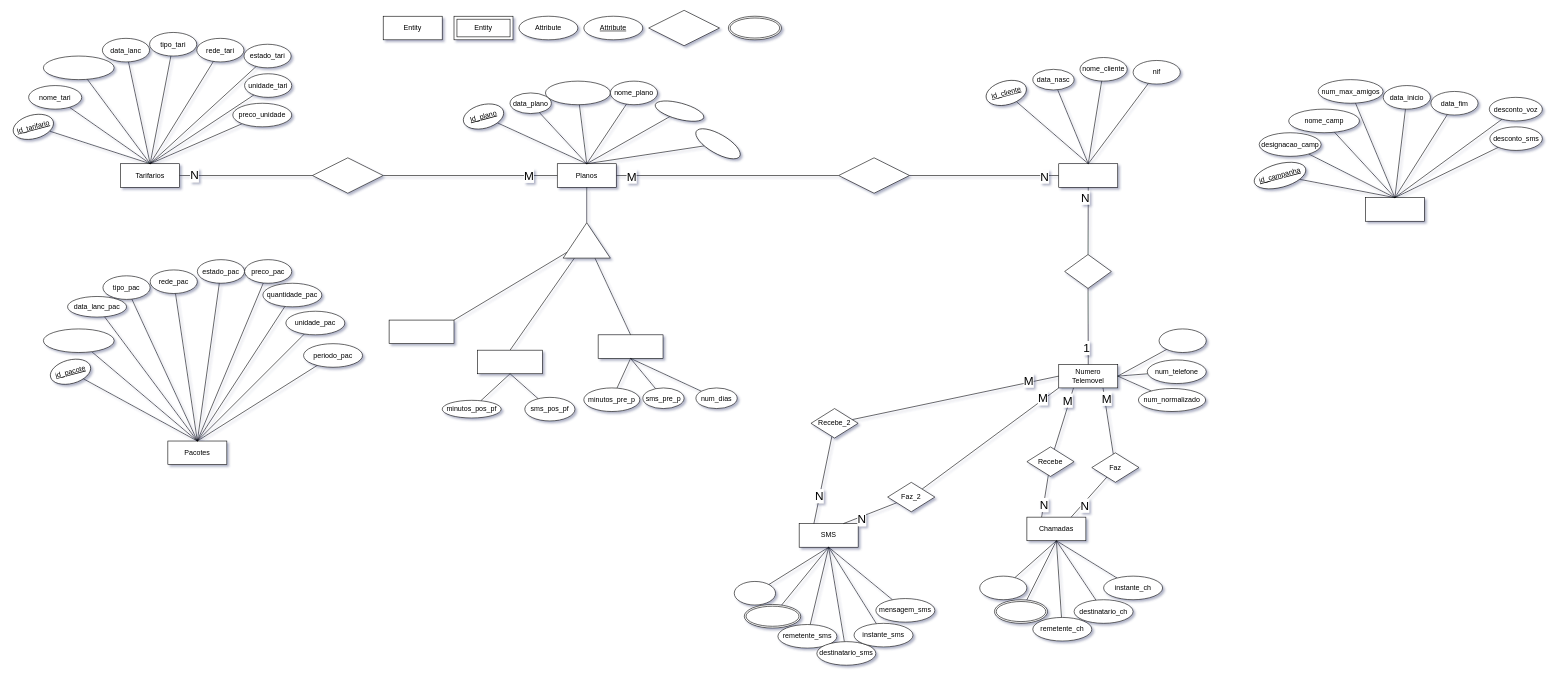
The diagram is 1556 pixels wide and 679 high, and some of its shapes have lost their labels. The centre of each missing label's shape, as x and y in pixels:
"Campanha" goes at [1394,209].
"Clientes" goes at [1088,175].
"Contrato" goes at [873,175].
"designacao_pac" goes at [78,340].
"designacao_plano" goes at [577,93].
"designacao_tari" goes at [78,67].
"estado_plano" goes at [718,143].
"estados_ch" goes at [1021,611].
"estados_sms" goes at [772,616].
"Id_chamada" goes at [1003,588].
"Id_sms" goes at [755,593].
"id_telefone" goes at [1182,340].
"MV" goes at [754,28].
"Pos_pago_plafond" goes at [510,362].
"Pos_pago_simples" goes at [421,331].
"Possui" goes at [347,175].
"Pre_pago" goes at [630,346].
"Relacionamento" goes at [684,28].
"Tem" goes at [1087,271].
"valor_servico" goes at [679,111].
